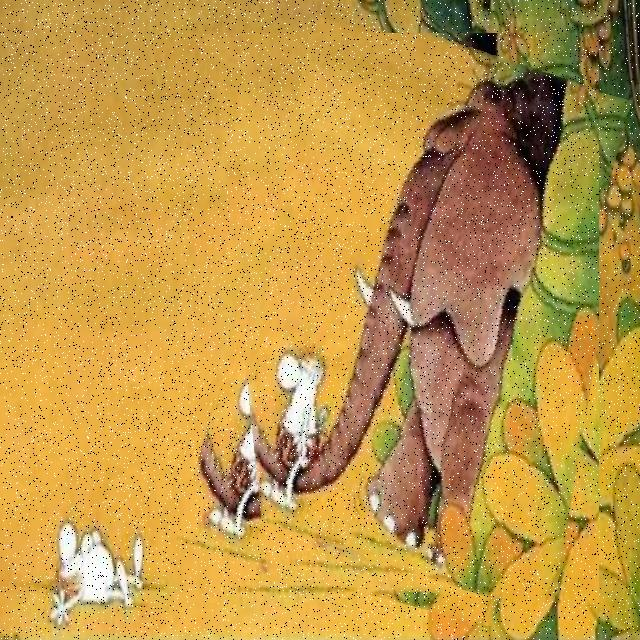elephant: (208, 33, 599, 610)
